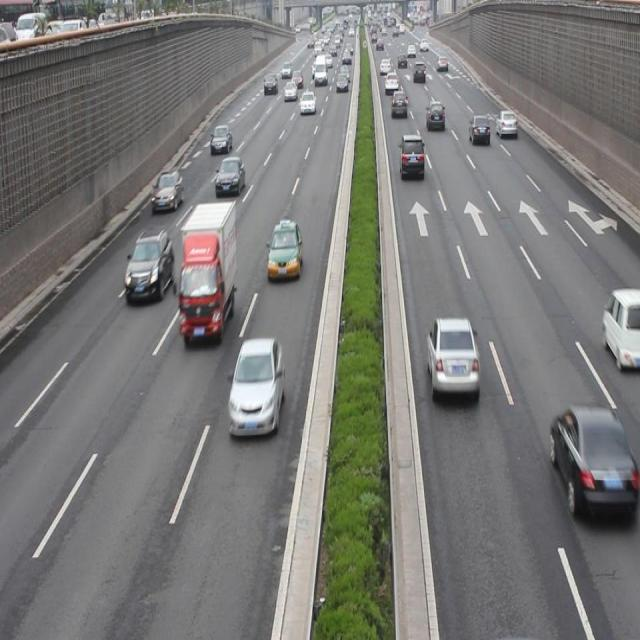bus: (179, 200, 235, 342)
car: (548, 402, 640, 514), (227, 338, 284, 434), (426, 315, 478, 401), (125, 229, 174, 297), (600, 288, 640, 368), (265, 219, 302, 280), (151, 167, 184, 211), (398, 131, 424, 181), (215, 157, 246, 196), (210, 124, 232, 155), (426, 100, 447, 132), (468, 114, 489, 146), (495, 110, 516, 139)
